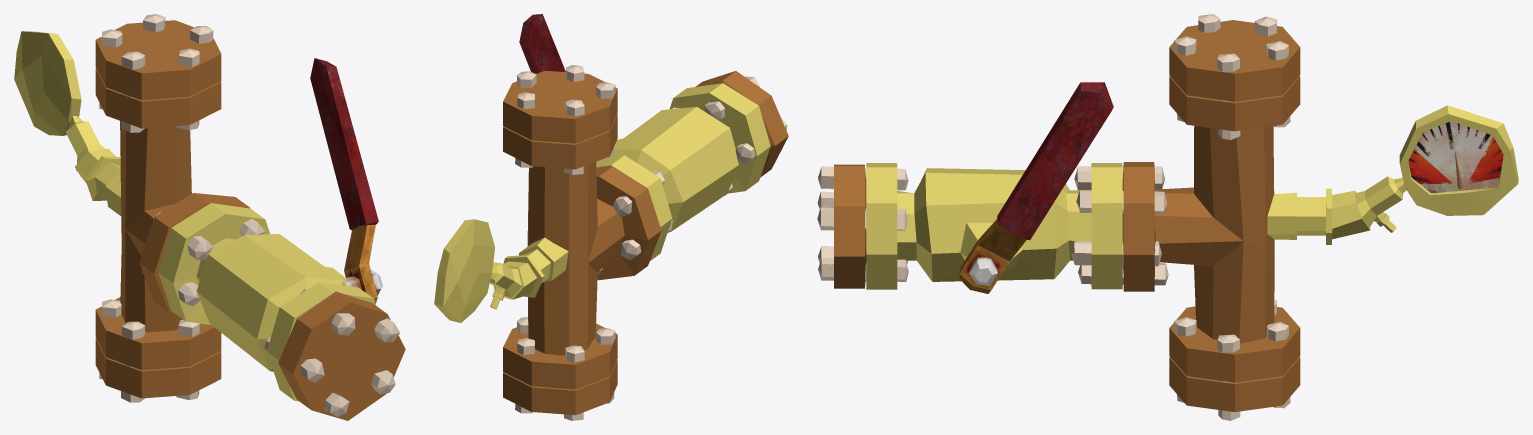
Rendered from Pressure_Full_Textured.fbx.
3 renders of one model, left to right at view 1: azimuth 30°, elevation 25°; view 2: azimuth 150°, elevation 25°; view 3: azimuth 270°, elevation 25°, orthographic. The views are drawn at different scales.
Visible parts, largest first — view 1: Pressure_Joint, Valve_Gauge, Handle; view 2: Pressure_Joint, Valve_Gauge, Handle; view 3: Pressure_Joint, Valve_Gauge, Handle, GaugeMeter.
Part boxes in pixels (left/top/right/bottom): Pressure_Joint: left=95, top=14, right=405, bottom=420; Valve_Gauge: left=14, top=31, right=375, bottom=401; Handle: left=310, top=58, right=382, bottom=303; Pressure_Joint: left=503, top=65, right=788, bottom=420; Valve_Gauge: left=434, top=83, right=770, bottom=322; Handle: left=519, top=14, right=565, bottom=73; Pressure_Joint: left=817, top=14, right=1300, bottom=420; Valve_Gauge: left=866, top=105, right=1518, bottom=289; Handle: left=959, top=82, right=1113, bottom=293; GaugeMeter: left=1408, top=121, right=1503, bottom=193.
Bounding box in the file's own units: 107 × 30.31 × 61.4.
